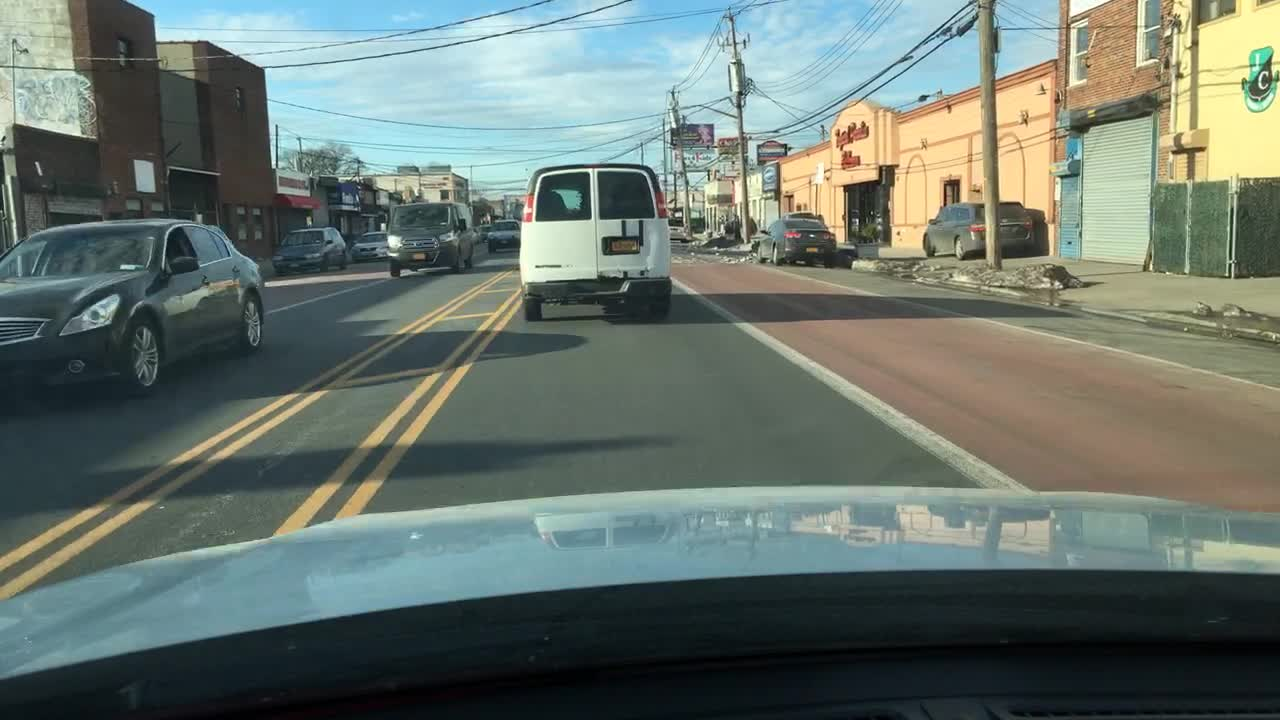car: (0, 218, 262, 396), (521, 165, 675, 319), (920, 199, 1039, 257), (386, 202, 478, 276), (751, 219, 834, 270), (271, 227, 349, 273), (484, 218, 521, 251), (354, 228, 389, 259), (670, 211, 687, 244), (784, 210, 819, 221), (475, 224, 489, 245)
